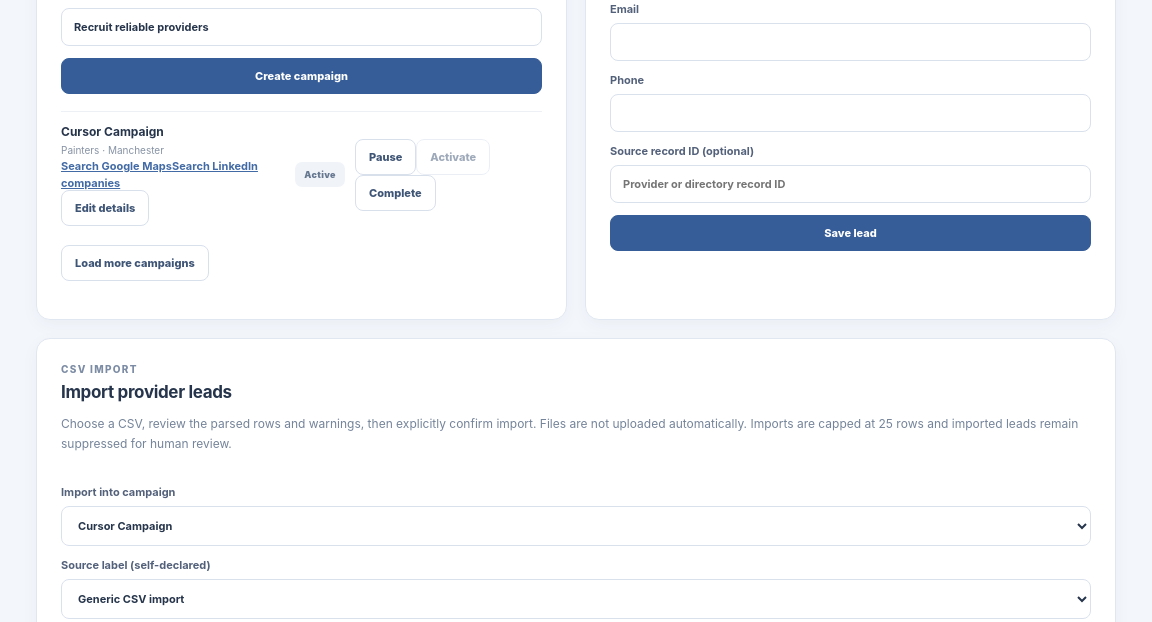
Test: cloud authentication gate › stops campaign pagination when the server repeats the current cursor
(page scrolled)
Click the button "Load more campaigns": (135, 263) [61,245,209,281]
(page scrolled)
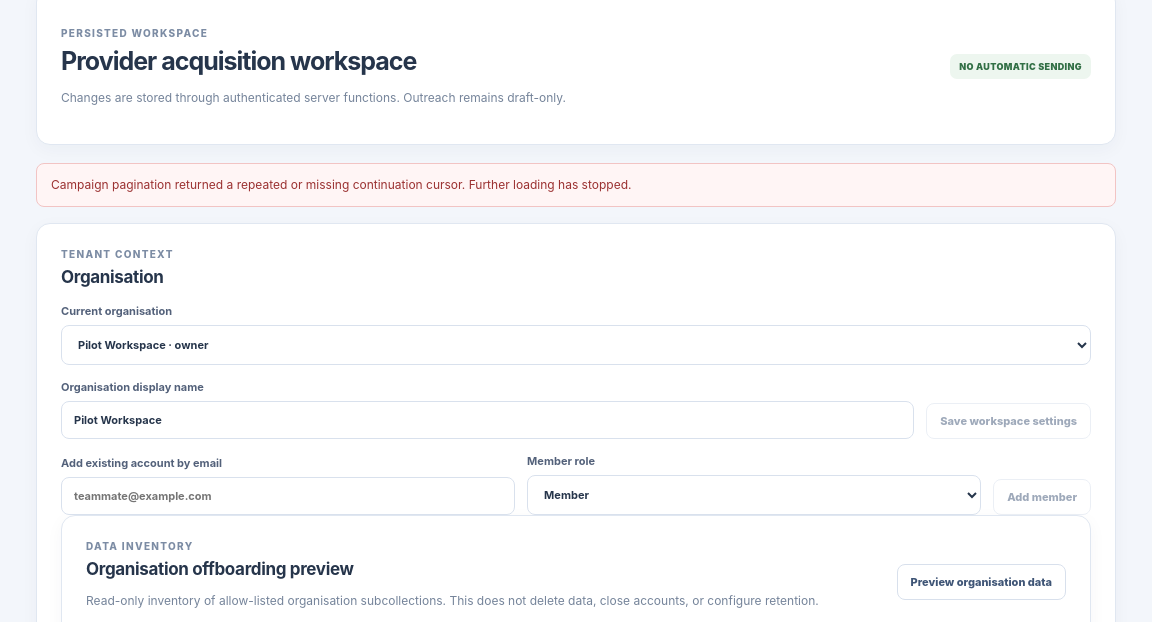
Result: the message shows "Campaign pagination returned a repeated or missing continuation cursor" at [51,177,631,192]
Result: the button "Load more campaigns" is gone
